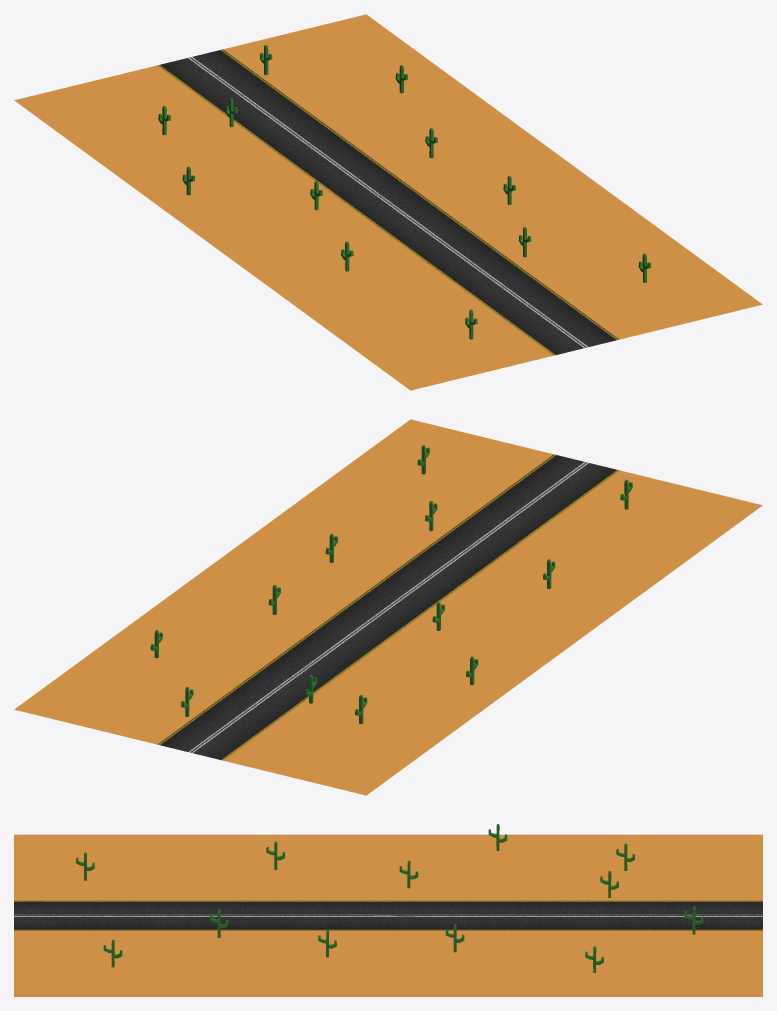
File: road.glb
3 views of the same model, one above another, from view 1: azimuth 30°, elevation 25°; view 2: azimuth 150°, elevation 25°; view 3: azimuth 270°, elevation 25° (orthographic). The views are drawn at different scales.
Visible parts, largest first — view 1: Plane; view 2: Plane; view 3: Plane.
Boxes of the visible parts, x1,y1,x2,y2 form: Plane: [14, 14, 762, 390]; Plane: [14, 419, 762, 795]; Plane: [14, 824, 762, 996].
Bounding box in the file's own units: 266 × 22.68 × 518.
1 material, 1 textured.
